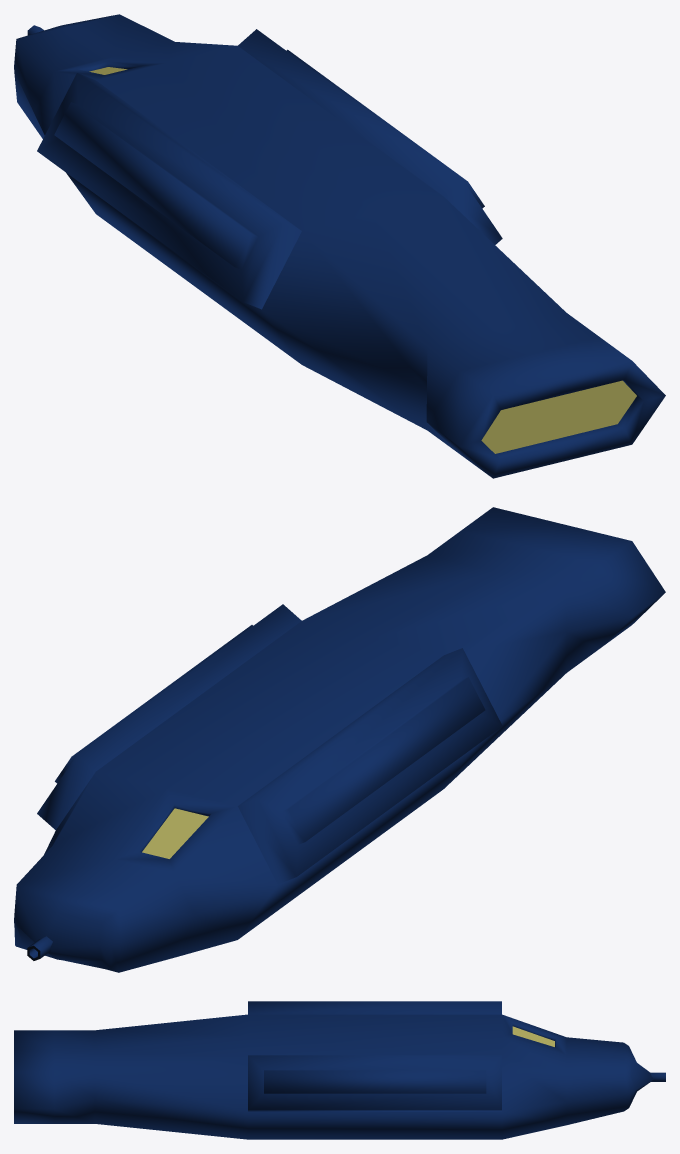
Rendered from nave01-cannone.glb.
3 views of the same model, one above another, from view 1: azimuth 30°, elevation 25°; view 2: azimuth 150°, elevation 25°; view 3: azimuth 270°, elevation 25° (orthographic). The views are drawn at different scales.
Parts seen in each view (by area): view 1: nave, nave.001; view 2: nave, finestra; view 3: nave, finestra.
Part boxes in pixels (<box>): nave: <box>14,14,665,478</box>; nave.001: <box>481,380,636,453</box>; nave: <box>14,507,665,972</box>; finestra: <box>142,808,208,858</box>; nave: <box>14,1001,665,1139</box>; finestra: <box>512,1026,554,1046</box>.
Bounding box in the file's own units: 2.34 × 1.26 × 8.25.
